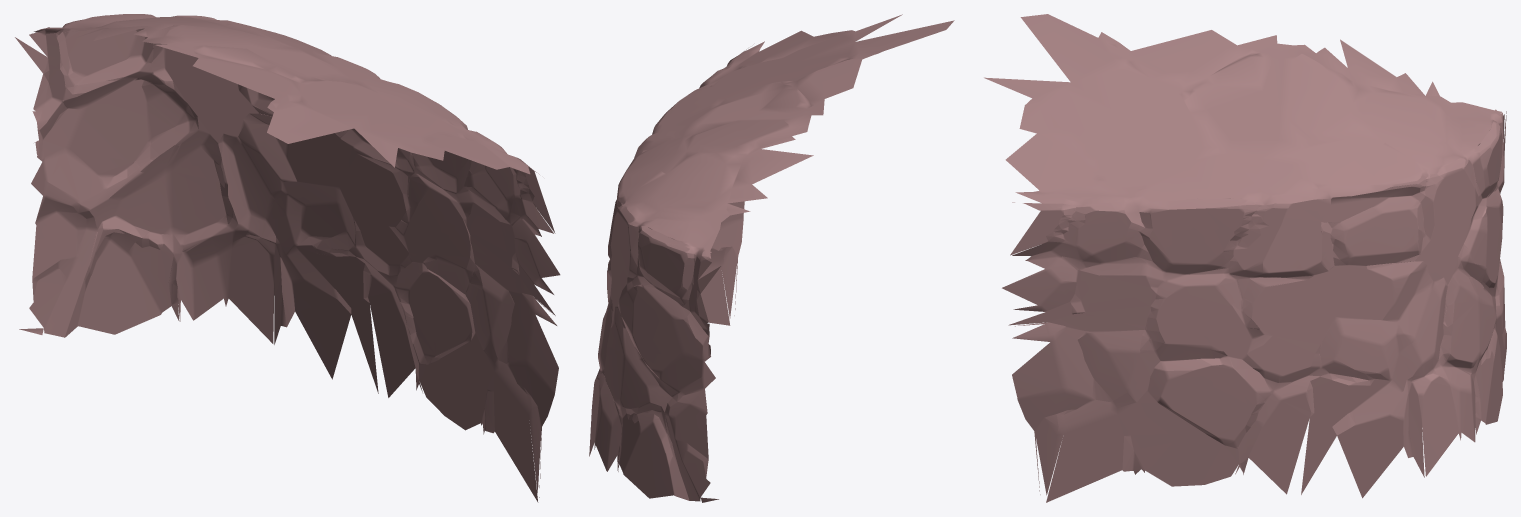
Rendered from plateau.fbx_Rock_Plateau_016LODs.fbx.
The picture shows the model from 3 angles, left to right: view 1: azimuth 30°, elevation 25°; view 2: azimuth 150°, elevation 25°; view 3: azimuth 270°, elevation 25°; orthographic projection. The views are drawn at different scales.
Visible parts, largest first — view 1: Rock Plateau.016_LOD0; view 2: Rock Plateau.016_LOD0; view 3: Rock Plateau.016_LOD0.
Boxes of the visible parts, x1,y1,x2,y2 form: Rock Plateau.016_LOD0: (15, 14, 560, 502); Rock Plateau.016_LOD0: (589, 14, 954, 502); Rock Plateau.016_LOD0: (984, 14, 1506, 502).
Size of what is drawn, in the model's own units: 2715 by 4150 by 5180.
